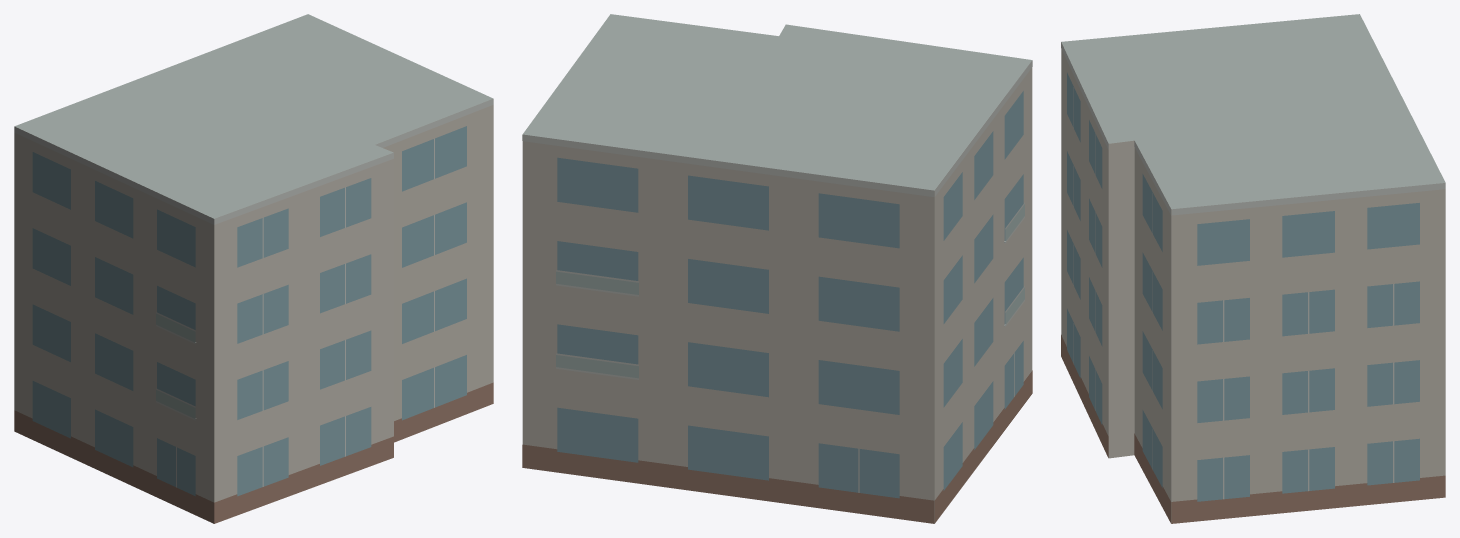
File: survey-upis-32676846.glb
The picture shows the model from 3 angles, left to right: view 1: azimuth 30°, elevation 25°; view 2: azimuth 150°, elevation 25°; view 3: azimuth 270°, elevation 25°; orthographic projection. The views are drawn at different scales.
Visible parts, largest first — view 1: survey-upis-32676846.tmp; view 2: survey-upis-32676846.tmp; view 3: survey-upis-32676846.tmp.
Boxes of the visible parts, x1,y1,x2,y2 form: survey-upis-32676846.tmp: (14, 14, 493, 523); survey-upis-32676846.tmp: (522, 14, 1032, 523); survey-upis-32676846.tmp: (1061, 14, 1445, 523).
Size of the model in its own units: 16.25 by 12.2 by 13.53.
